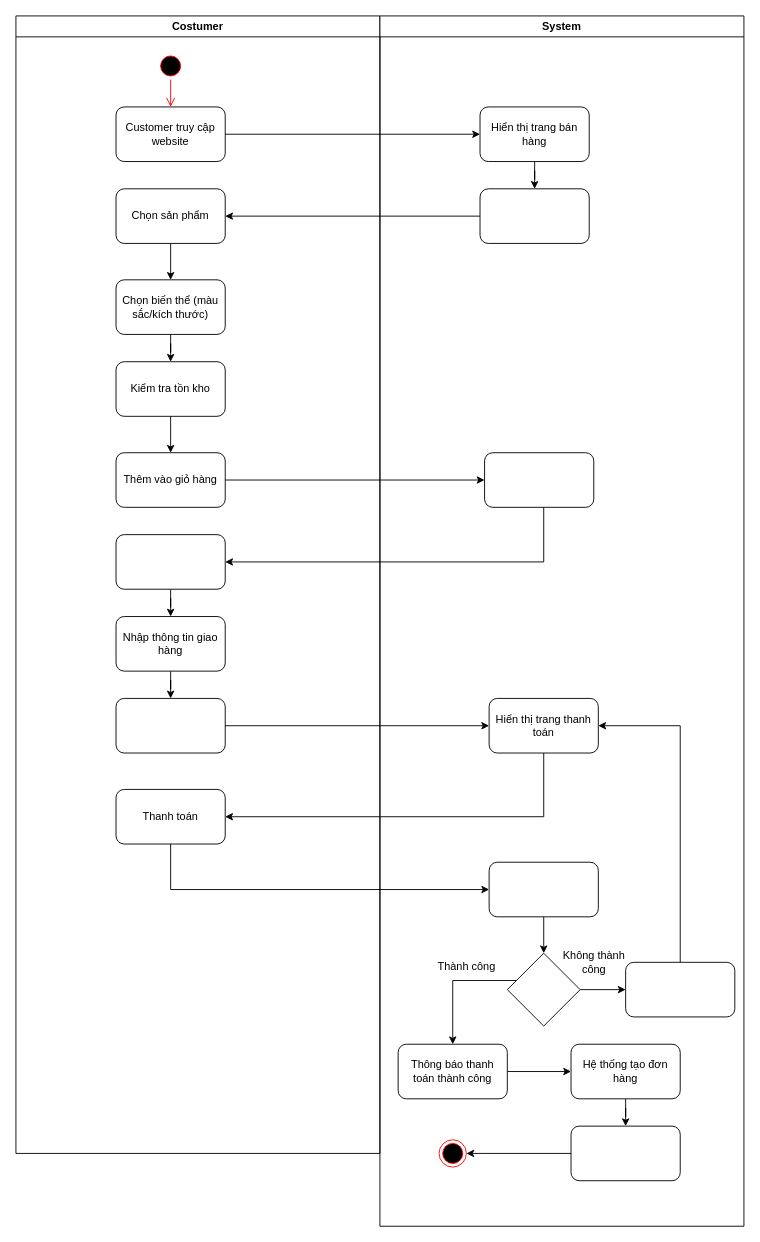
The diagram is 760 pixels wide and 1242 high, and some of its shapes have lost their labels. Each missing label, with the centre of its shape:
Chọn phương thức thanh toán: the point at 170,725
Dữ liệu chuyển về Backend (Kho + Kế toán): the point at 625,1153
Hiển thị danh sách sản phẩm: the point at 534,215
Hiển thị trang giỏ hàng: the point at 539,479
Thông báo thanh toán thất bại: the point at 680,989
Xác nhận giỏ hàng: the point at 170,561
Xác nhận thanh toán: the point at 543,889
